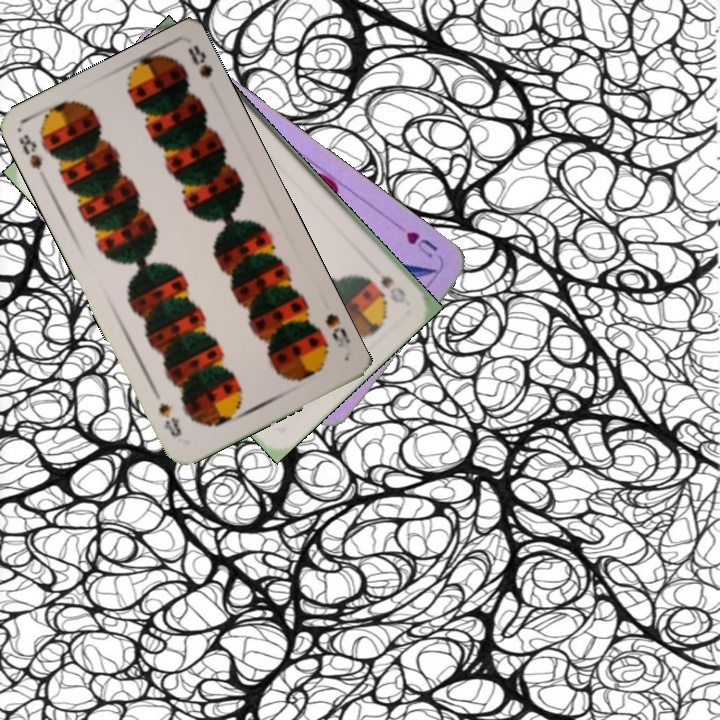HU: (401, 227, 441, 261)
S8: (320, 309, 353, 357), (14, 130, 46, 172)
SO: (376, 271, 409, 306)
